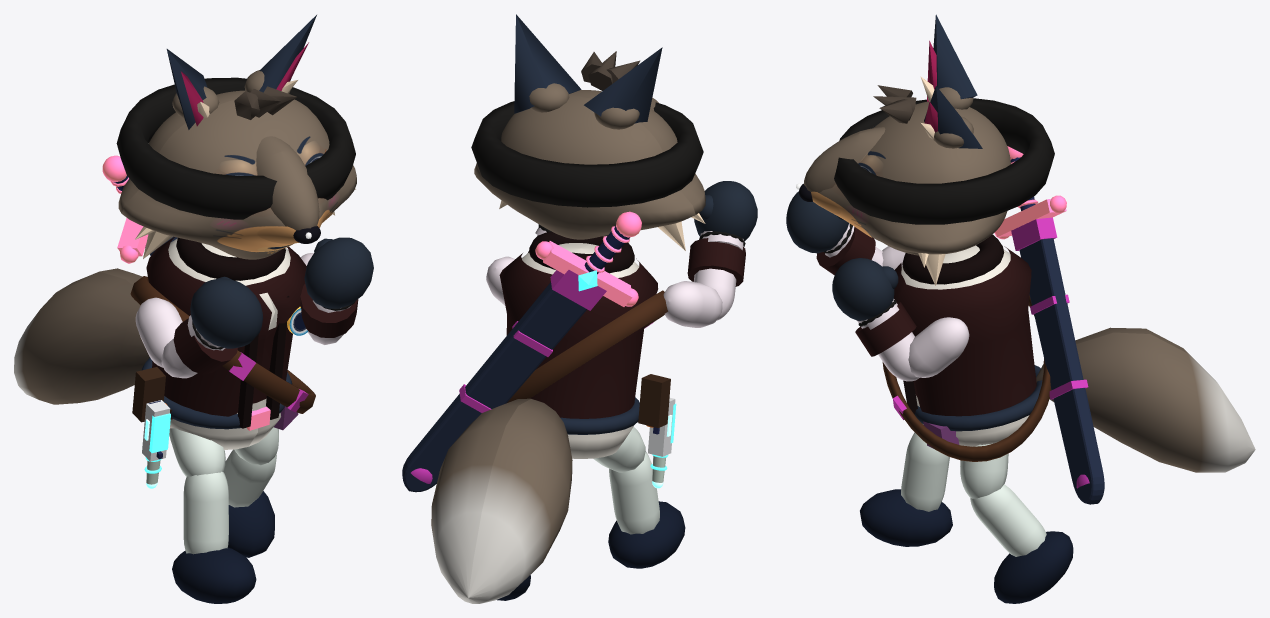
The model's file is barnacle_alt2.glb.
3 views of the same model, side by side, from view 1: azimuth 30°, elevation 25°; view 2: azimuth 150°, elevation 25°; view 3: azimuth 270°, elevation 25° (orthographic). The views are drawn at different scales.
Parts seen in each view (by area): view 1: BARNACLE ALT 2, object 24, object 28, object 2, object 6, object 3, object 10, object 9; view 2: BARNACLE ALT 2, object 6, object 24, object 3, object 9; view 3: BARNACLE ALT 2, object 28, object 24, object 3, object 6, object 2.
Part boxes in pixels (x1,y1,x2,y2): BARNACLE ALT 2: (14, 70, 358, 603); object 24: (190, 278, 263, 348); object 28: (304, 237, 373, 308); object 2: (213, 136, 337, 253); object 6: (259, 15, 316, 92); object 3: (166, 49, 207, 129); object 10: (149, 413, 170, 453); object 9: (142, 400, 170, 461); BARNACLE ALT 2: (402, 51, 745, 603); object 6: (514, 14, 581, 113); object 24: (694, 181, 757, 241); object 3: (584, 47, 662, 123); object 9: (648, 398, 675, 456); BARNACLE ALT 2: (796, 85, 1255, 603); object 28: (832, 258, 894, 320); object 24: (786, 191, 848, 253); object 3: (933, 14, 977, 99); object 6: (924, 86, 982, 148); object 2: (811, 123, 885, 237).
Size of the model in its own units: 1.37 by 3.3 by 2.64.
89 materials, 2 textured.
